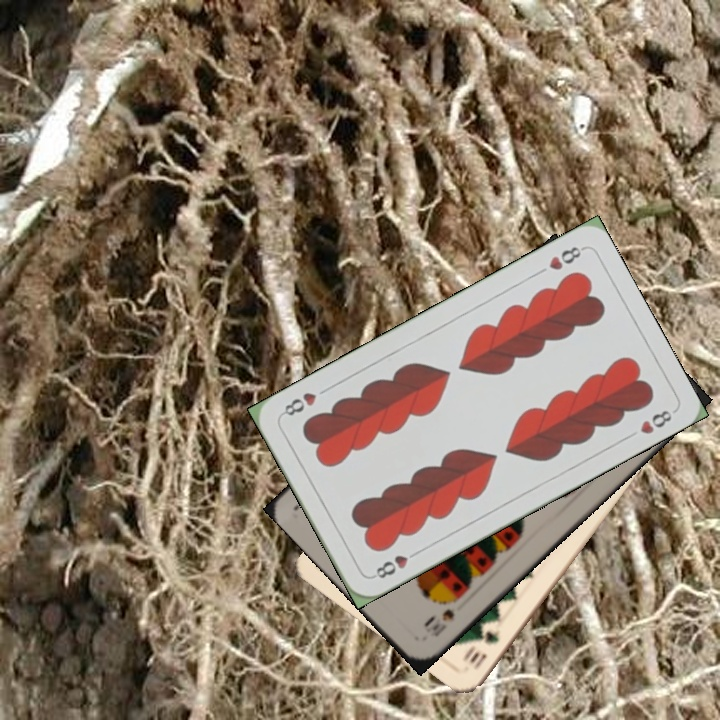G10: (460, 626, 503, 673)
H8: (368, 546, 422, 581), (544, 242, 586, 273)
S10: (421, 593, 462, 640)
